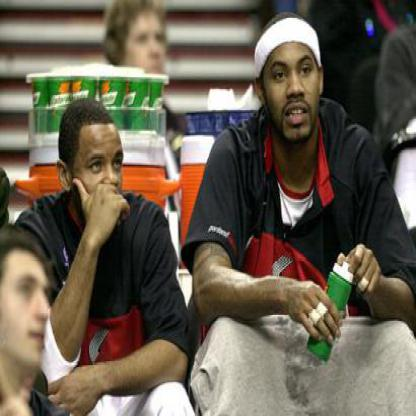face: (1, 234, 58, 372), (264, 14, 323, 145), (70, 110, 129, 229), (127, 1, 171, 90)
